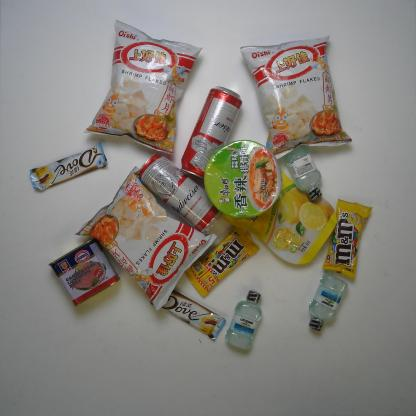Alcohol: (136, 154, 221, 236), (181, 86, 244, 176)
Canned Food: (47, 238, 120, 306)
Chocolate: (185, 228, 259, 298), (320, 198, 374, 279), (28, 142, 108, 192), (161, 288, 225, 341)
Dried Fruit: (245, 165, 340, 267)
Instant Noodles: (205, 139, 279, 219)
Personal Hygiene: (307, 271, 350, 332), (224, 290, 264, 351), (283, 143, 323, 204)
Puffed Food: (73, 164, 214, 313), (83, 19, 204, 155), (238, 36, 354, 157)
